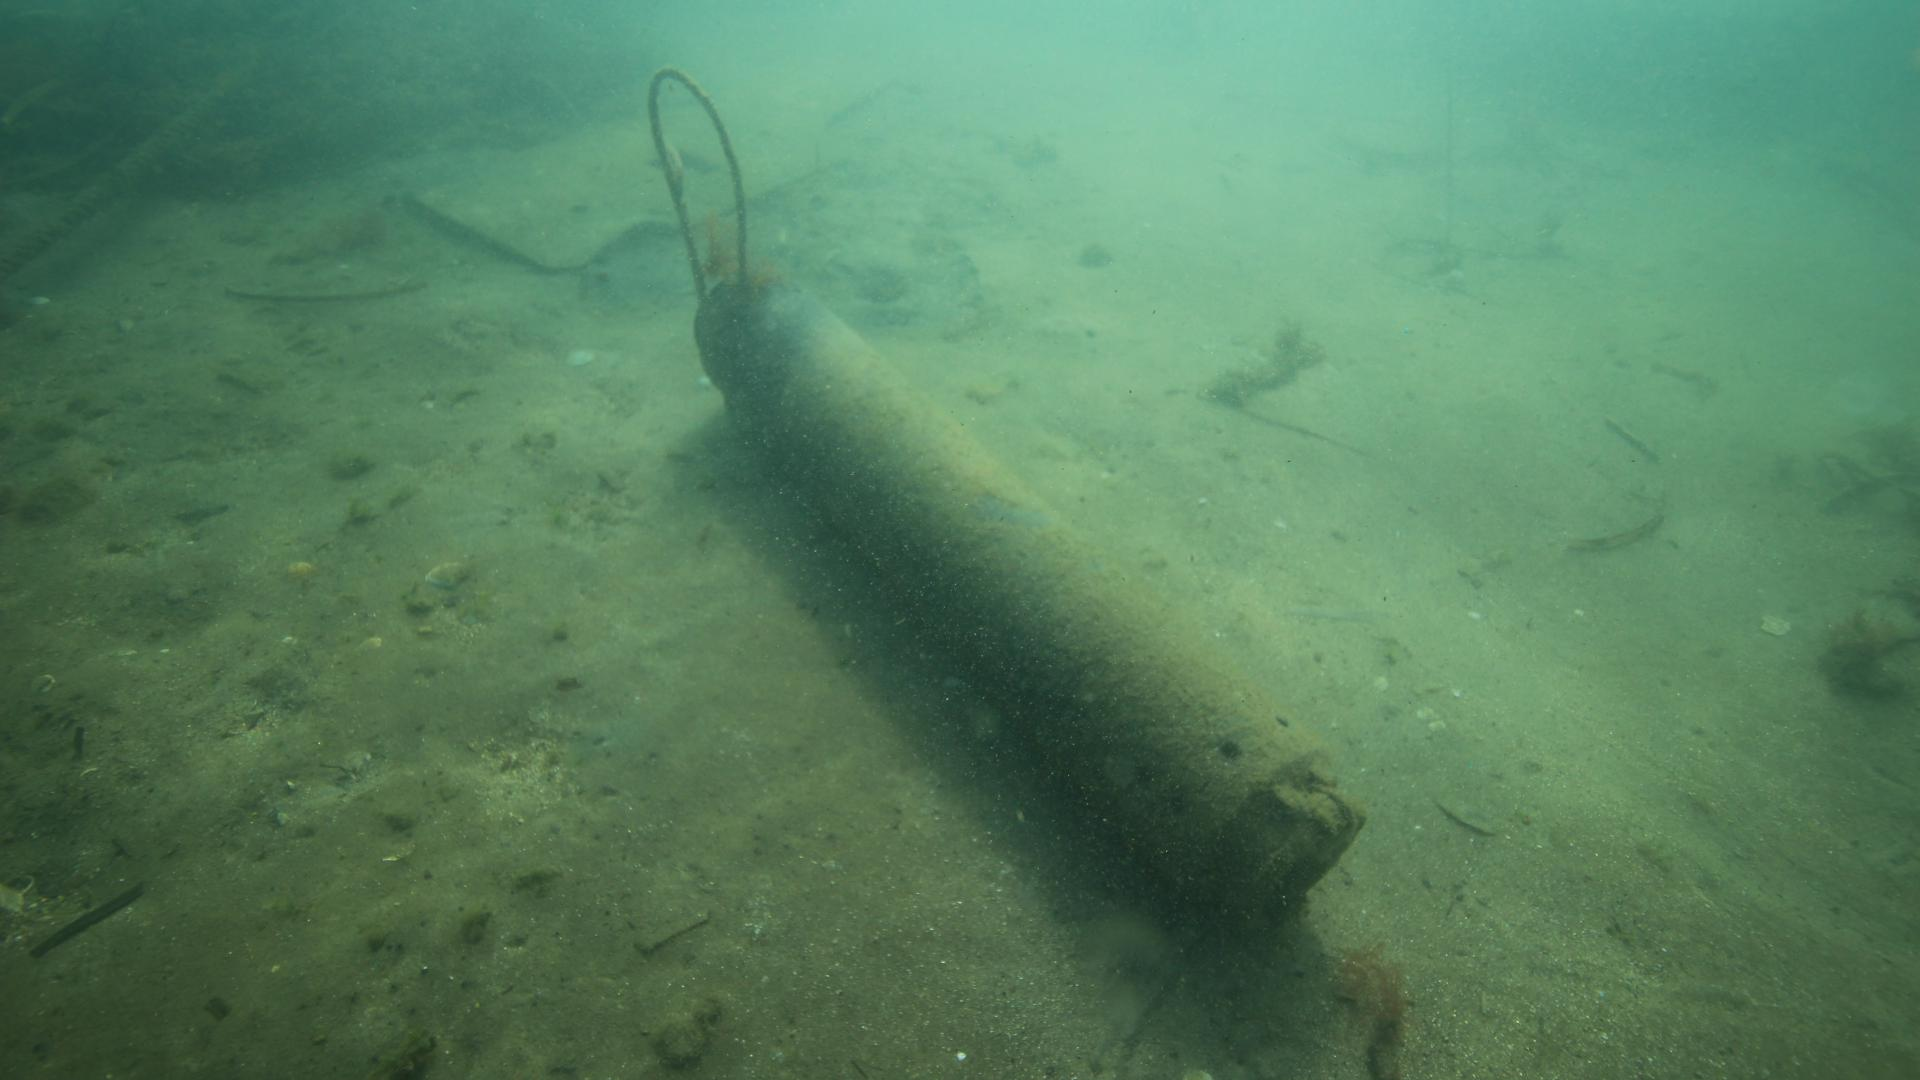eel fish trap: (687, 262, 1364, 928)
rope: (0, 86, 220, 273), (644, 65, 748, 299)
